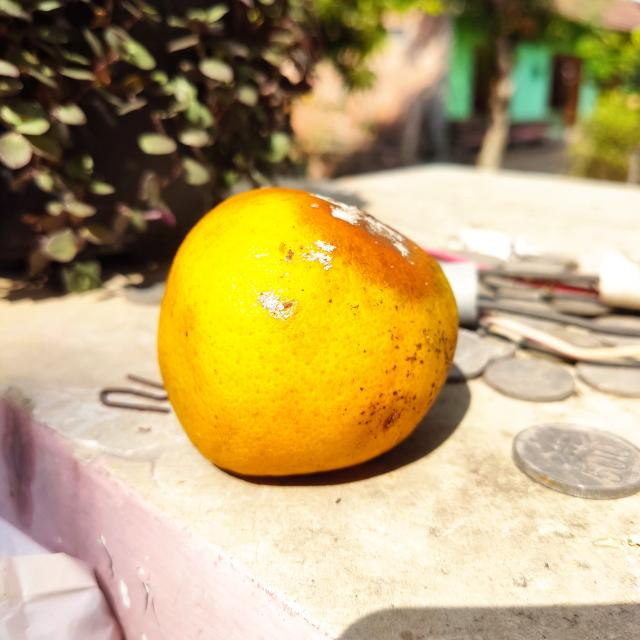orange: (154, 185, 460, 477)
